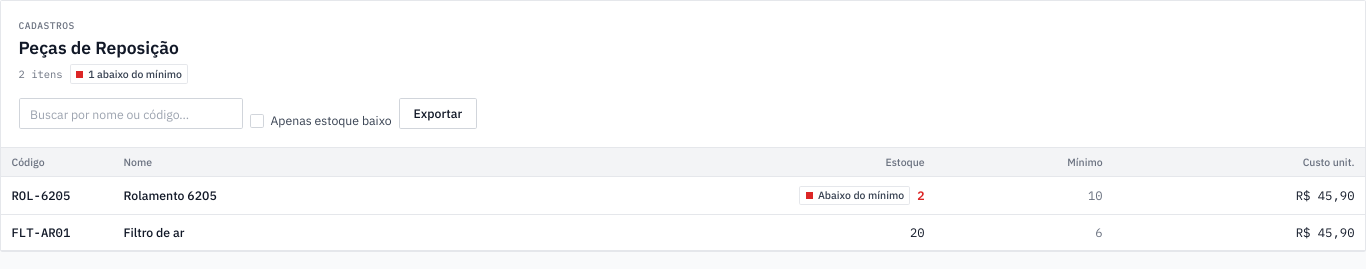
SparePartsListPage › deve filtrar apenas estoque baixo
Expected: the link "FLT-AR01" is shown, [12,224,70,240]
Click the checkbox named "Apenas estoque baixo" at x=256, y=121, box [250,114,264,128]
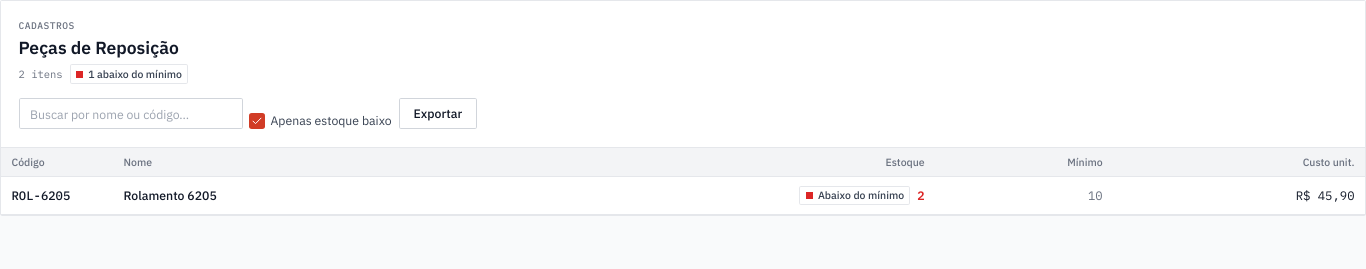
Expected: the link "ROL-6205" is shown, [12,187,70,203]
Expected: the link "FLT-AR01" is gone
